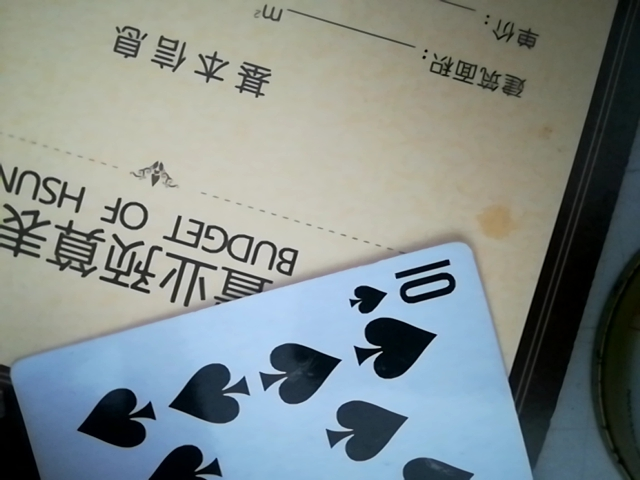ht 10: (4, 235, 551, 479)
